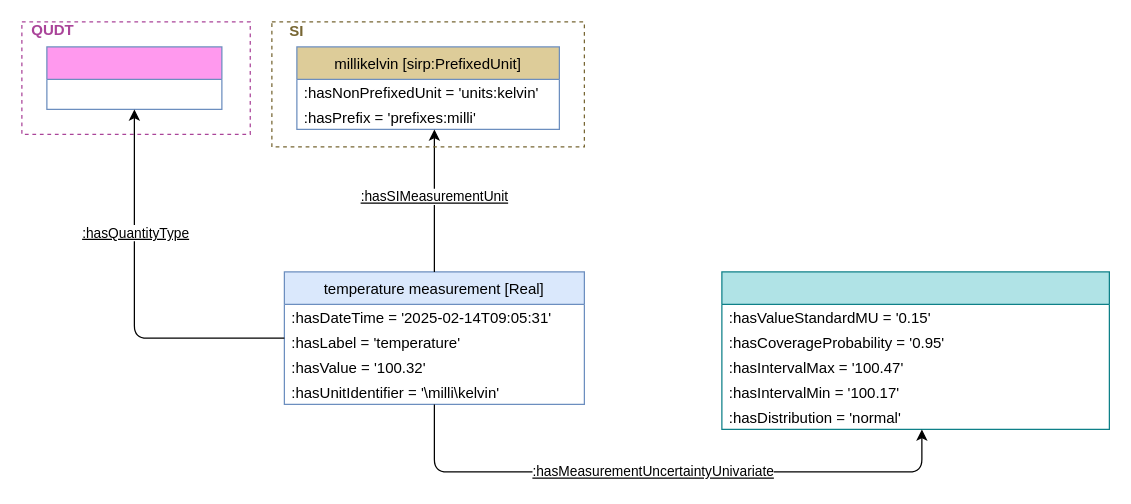
Image size: 1131x504. Some labels were removed from this diagram. The box of each missing label's shape, as (x1, y1, x2, y2) in pixels:
measurement uncertainty [CoverageIntervalMU]: (721, 271, 1109, 429)
quantitykind:Temperature: (46, 46, 222, 109)
